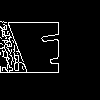H: (25, 25, 100, 70)
